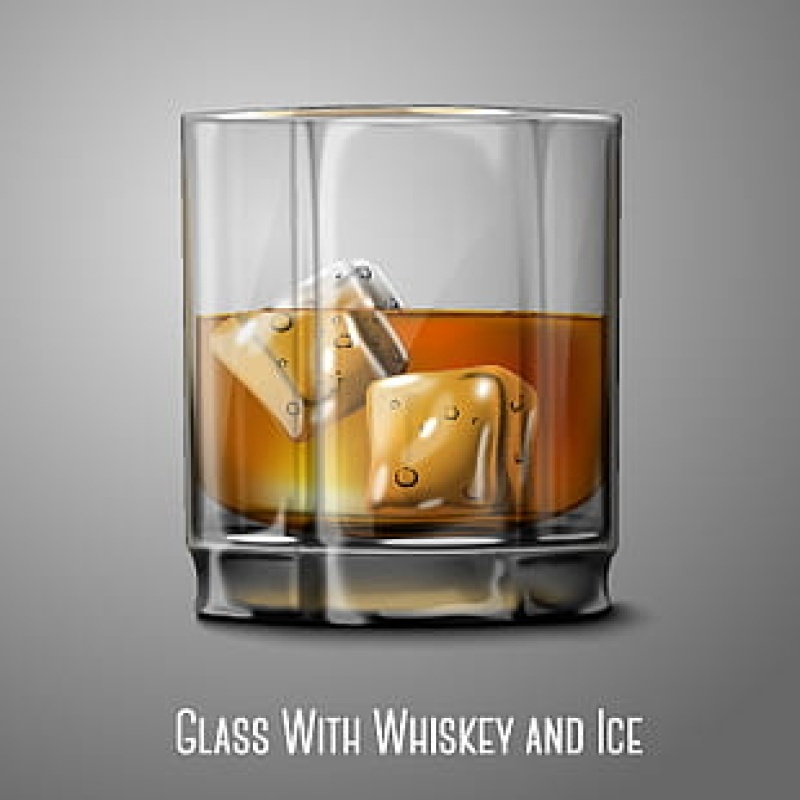whiskey: (176, 109, 617, 583)
